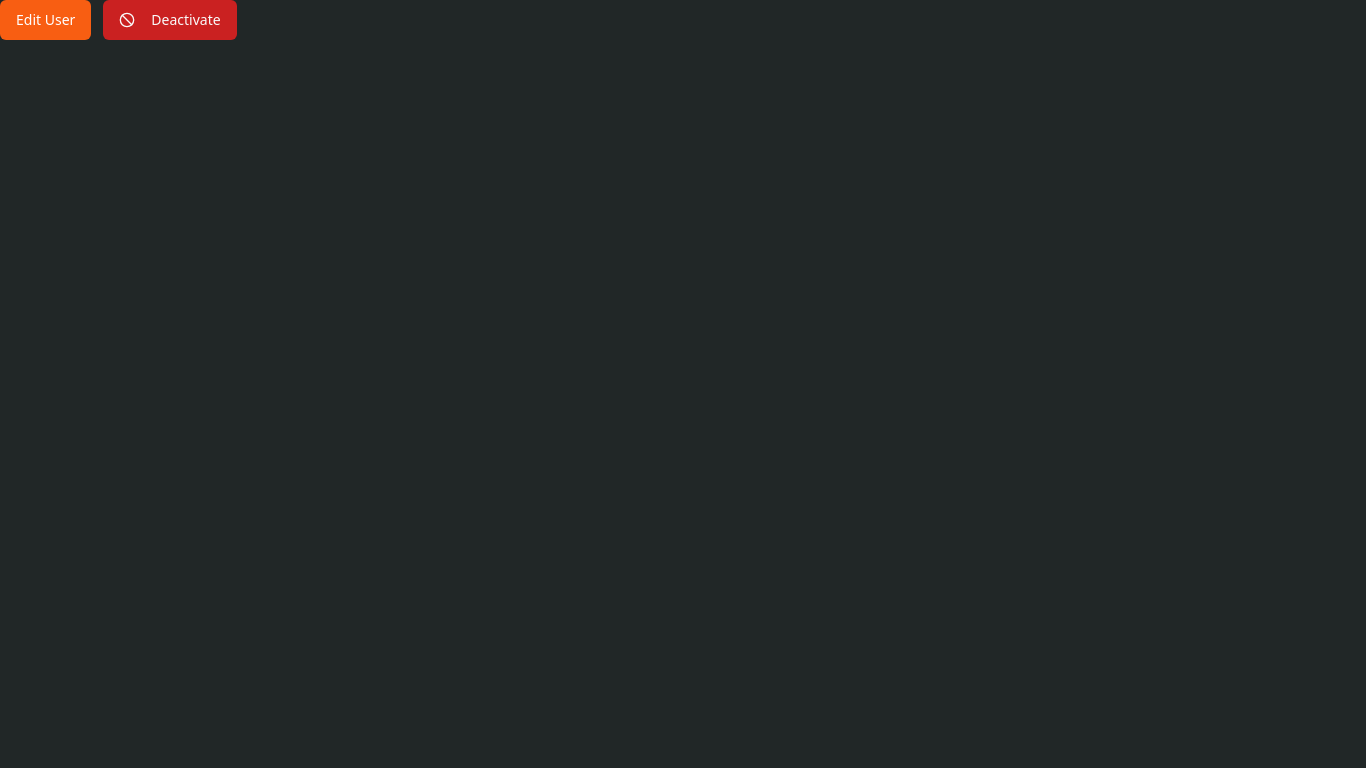
Test case: BackofficeUserActions › displays user email in dialog when name is not available
The width and height of the screenshot is (1366, 768).
Click the button "Deactivate" at (170,20), box [103,0,237,40]
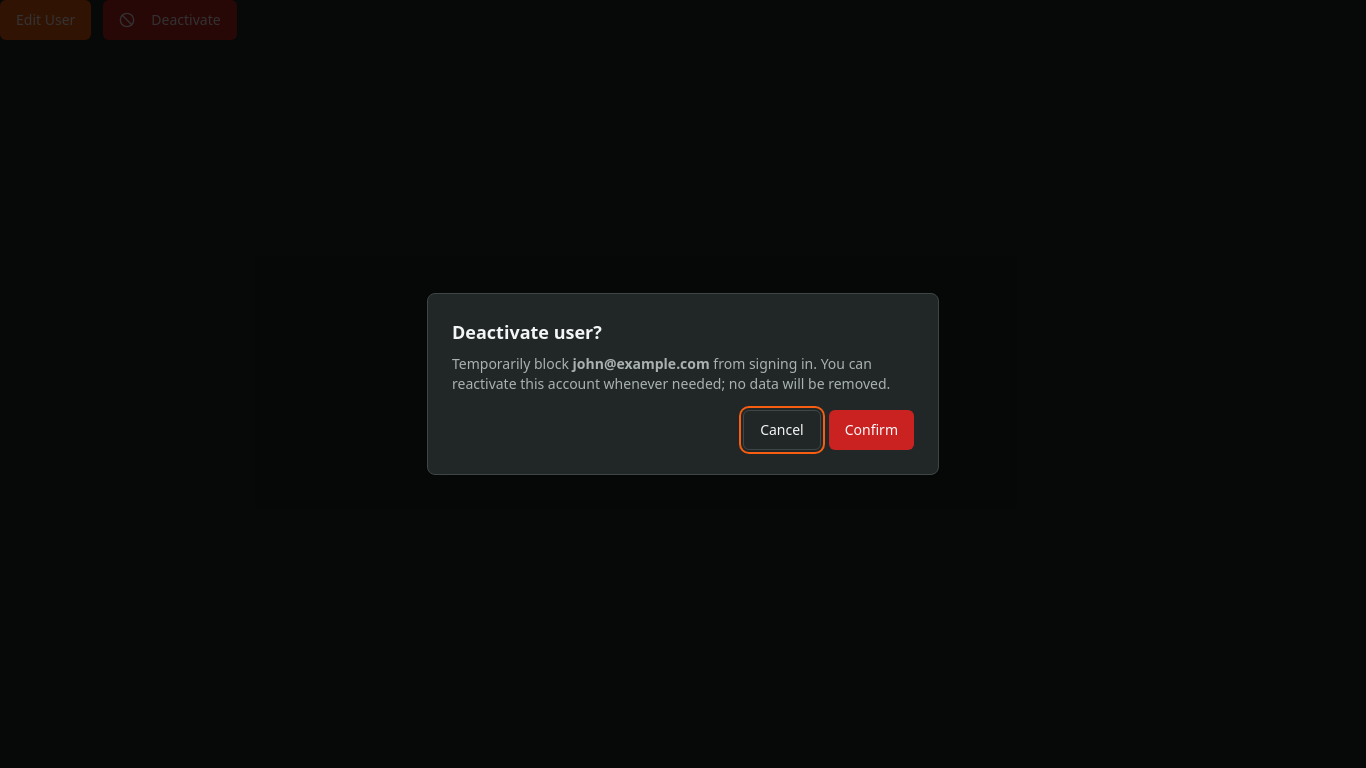
expect the text "john@example.com" is shown: met, box [572,354,710,373]
